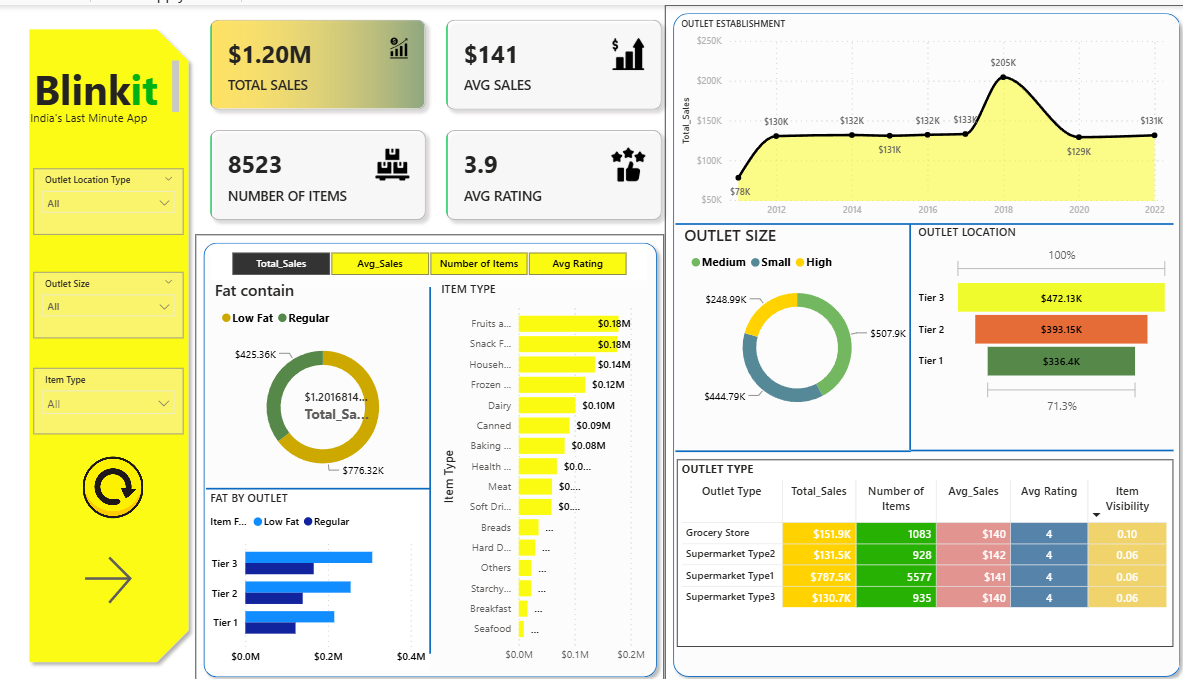

The dashboard page shown, as its layout file describes it:
{"tool":"powerbi","page":{"name":"Page 1","canvas":[1400,800],"ordinal":0},"visuals":[{"type":"shape","box":[26,20,206,764],"z":0},{"type":"textbox","box":[35.1,59.9,181.9,72.3],"z":1000},{"type":"textbox","box":[31,117.8,190.2,31],"z":2000},{"type":"cardVisual","fields":{"Data":["BlinkIT Grocery Data.Total_Sales","BlinkIT Grocery Data.Avg_Sales","BlinkIT Grocery Data.Number of Items","BlinkIT Grocery Data.Avg Rating"]},"box":[232,0,566,270],"z":3000},{"type":"shape","box":[232,270,552,530],"z":4000},{"type":"donutChart","title":"Fat contain","fields":{"Y":["BlinkIT Grocery Data.Total_Sales"],"Category":["BlinkIT Grocery Data.Item Fat Content"]},"box":[250,324,264,246],"z":5000},{"type":"slicer","fields":{"Values":["Metrics.Metrics"]},"box":[250,284,514,40],"z":6000},{"type":"cardVisual","fields":{"Data":["BlinkIT Grocery Data.Total_Sales"]},"box":[342,434,114,70],"z":7000},{"type":"clusteredBarChart","title":"FAT BY OUTLET","fields":{"Y":["BlinkIT Grocery Data.Total_Sales"],"Category":["BlinkIT Grocery Data.Outlet Location Type"],"Series":["BlinkIT Grocery Data.Item Fat Content"]},"box":[244,570,264,214],"z":8000},{"type":"shape","box":[244,548,264,44],"z":9000},{"type":"shape","box":[456,332,104,432],"z":10000},{"type":"barChart","title":"ITEM TYPE","fields":{"Y":["BlinkIT Grocery Data.Total_Sales"],"Category":["BlinkIT Grocery Data.Item Type"]},"box":[516,326,250,458],"z":11000},{"type":"shape","box":[784,0,616,800],"z":12000},{"type":"lineChart","title":"OUTLET ESTABLISHMENT","fields":{"Category":["BlinkIT Grocery Data.Outlet Establishment Year"],"Y":["BlinkIT Grocery Data.Total_Sales"]},"box":[798.8,14.1,579.7,243.9],"z":13000},{"type":"shape","box":[797.1,236.8,586.8,42.4],"z":14000},{"type":"donutChart","title":"OUTLET SIZE","fields":{"Y":["BlinkIT Grocery Data.Total_Sales"],"Category":["BlinkIT Grocery Data.Outlet Size"]},"box":[802.4,258,275.7,236.8],"z":15000},{"type":"shape","box":[1021.5,258,104.3,266.9],"z":16000},{"type":"shape","box":[797.1,507.2,277.5,37.1],"z":17000},{"type":"funnel","title":"OUTLET LOCATION","fields":{"Category":["BlinkIT Grocery Data.Outlet Location Type"],"Y":["BlinkIT Grocery Data.Total_Sales"]},"box":[1078.1,258,305.8,229.8],"z":18000},{"type":"shape","box":[1074.5,507.2,309.3,35.3],"z":19000},{"type":"pivotTable","title":"OUTLET TYPE","fields":{"Rows":["BlinkIT Grocery Data.Outlet Type"],"Values":["BlinkIT Grocery Data.Total_Sales","BlinkIT Grocery Data.Number of Items","BlinkIT Grocery Data.Avg_Sales","BlinkIT Grocery Data.Avg Rating","Avg(BlinkIT Grocery Data.Item Visibility)"]},"box":[798.8,535.5,585,220.9],"z":20000},{"type":"slicer","fields":{"Values":["BlinkIT Grocery Data.Outlet Location Type"]},"box":[40.6,192.6,176.7,77.8],"z":21000},{"type":"slicer","fields":{"Values":["BlinkIT Grocery Data.Outlet Size"]},"box":[40.6,314.6,176.7,77.8],"z":22000},{"type":"slicer","fields":{"Values":["BlinkIT Grocery Data.Item Type"]},"box":[40.6,427.7,176.7,77.8],"z":23000},{"type":"image","box":[93.7,526.7,81.3,83.1],"z":24000},{"type":"actionButton","box":[93.7,643.3,97.2,68.9],"z":24001}]}

Visuals, with their boxes in screenshot pixels (x1, y1, x2, y2), scaled from the page's 1400x800 canvas onto the 1183x679 screenshot:
shape: BBox(22, 17, 196, 665)
textbox: BBox(30, 51, 183, 112)
textbox: BBox(26, 100, 187, 126)
cardVisual - BlinkIT Grocery Data.Total_Sales x BlinkIT Grocery Data.Avg_Sales: BBox(196, 0, 674, 229)
shape: BBox(196, 229, 662, 678)
"Fat contain" donutChart: BBox(211, 275, 434, 484)
slicer - Metrics.Metrics: BBox(211, 241, 646, 275)
cardVisual - BlinkIT Grocery Data.Total_Sales: BBox(289, 368, 385, 428)
"FAT BY OUTLET" clusteredBarChart: BBox(206, 484, 429, 665)
shape: BBox(206, 465, 429, 502)
shape: BBox(385, 282, 473, 648)
"ITEM TYPE" barChart: BBox(436, 277, 647, 665)
shape: BBox(662, 0, 1182, 678)
"OUTLET ESTABLISHMENT" lineChart: BBox(675, 12, 1165, 219)
shape: BBox(674, 201, 1169, 237)
"OUTLET SIZE" donutChart: BBox(678, 219, 911, 420)
shape: BBox(863, 219, 951, 446)
shape: BBox(674, 430, 908, 462)
"OUTLET LOCATION" funnel: BBox(911, 219, 1169, 414)
shape: BBox(908, 430, 1169, 460)
"OUTLET TYPE" pivotTable: BBox(675, 455, 1169, 642)
slicer - BlinkIT Grocery Data.Outlet Location Type: BBox(34, 163, 184, 230)
slicer - BlinkIT Grocery Data.Outlet Size: BBox(34, 267, 184, 333)
slicer - BlinkIT Grocery Data.Item Type: BBox(34, 363, 184, 429)
image: BBox(79, 447, 148, 518)
actionButton: BBox(79, 546, 161, 604)
